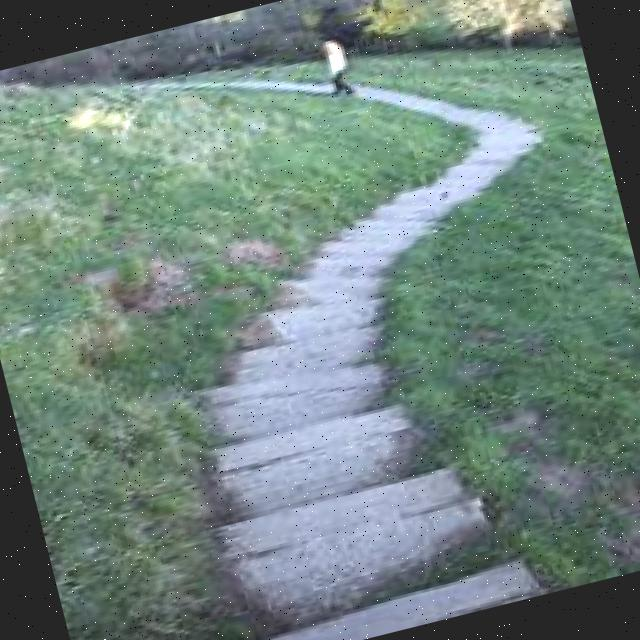stairs: (109, 0, 546, 640)
